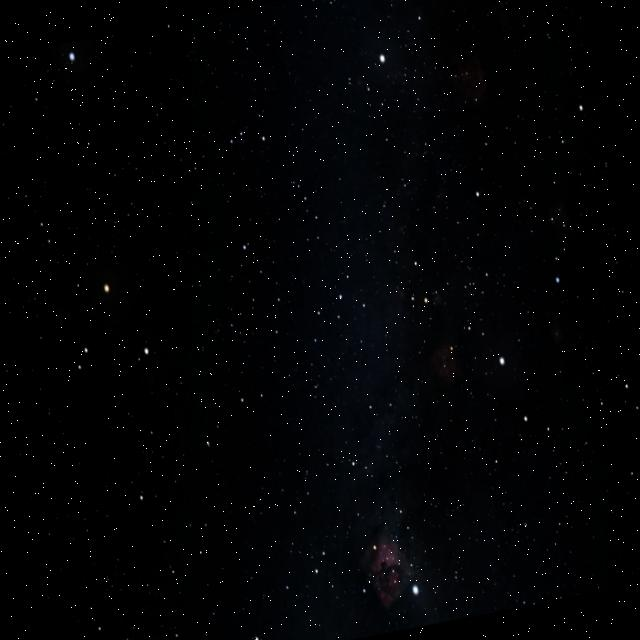Lacerta: (221, 282, 383, 408)
